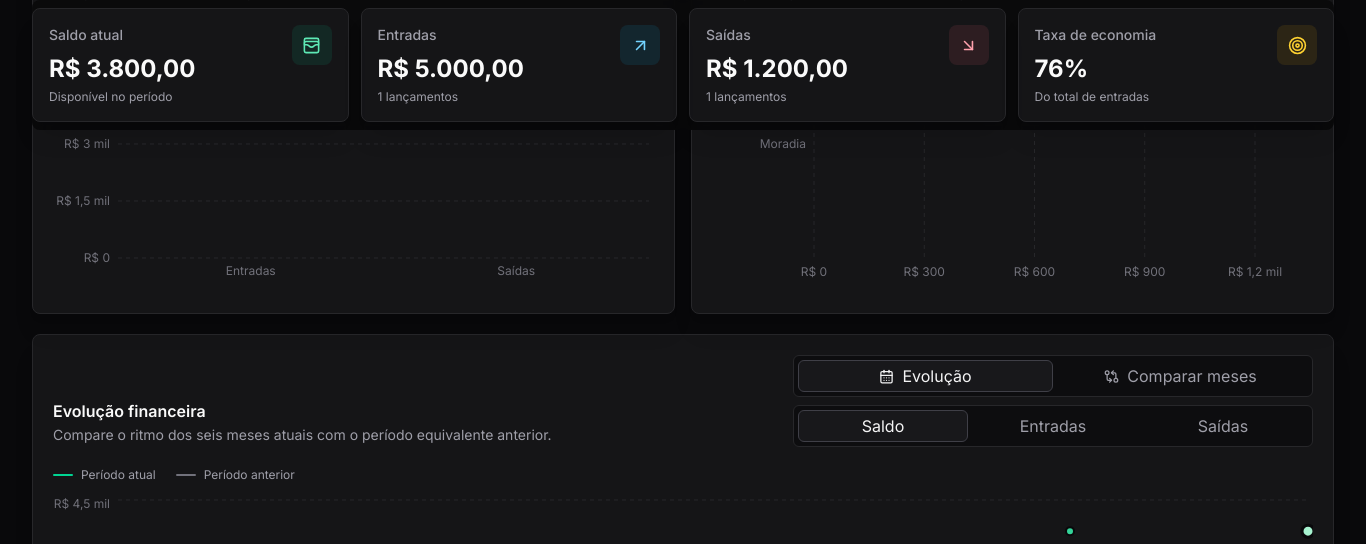
Test case: NexaFlow › permite comparar dois meses no painel financeiro
This screenshot has width=1366, height=544.
(page scrolled)
Click the button "Comparar meses". click: (1180, 376)
box: [1053,360,1308,392]
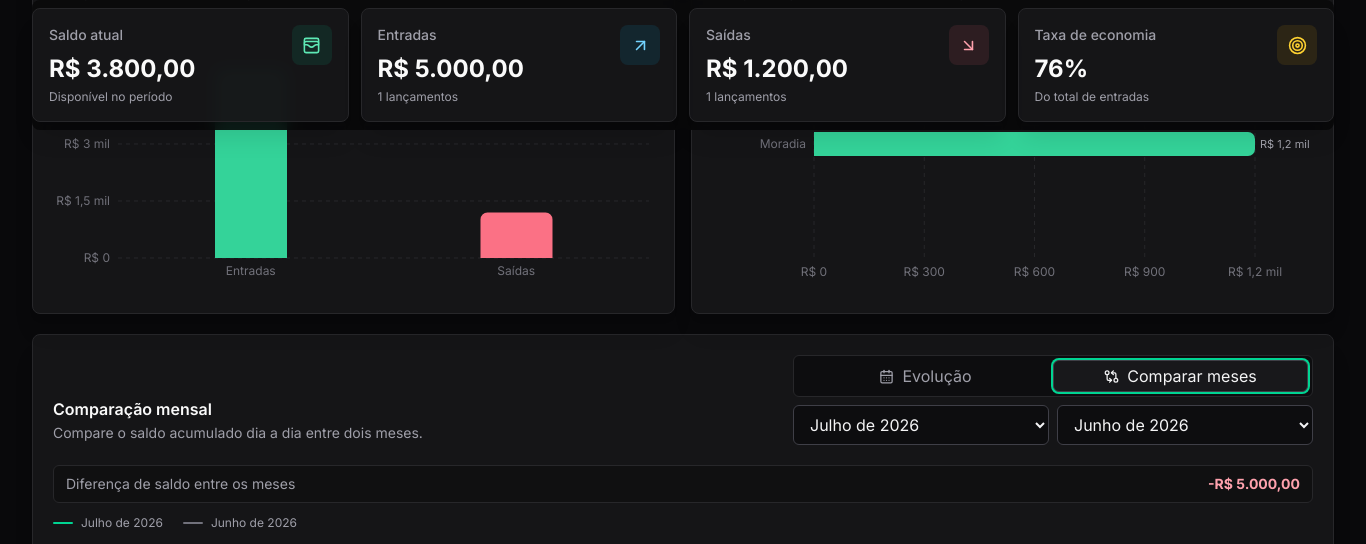
Expected: the dropdown named "Mês principal" is shown, [793,405,1049,445]
Expected: the dropdown named "Mês para comparar" is shown, [1057,405,1313,445]
Expected: the text "Diferença de saldo entre os meses" is shown, [66,474,295,494]
